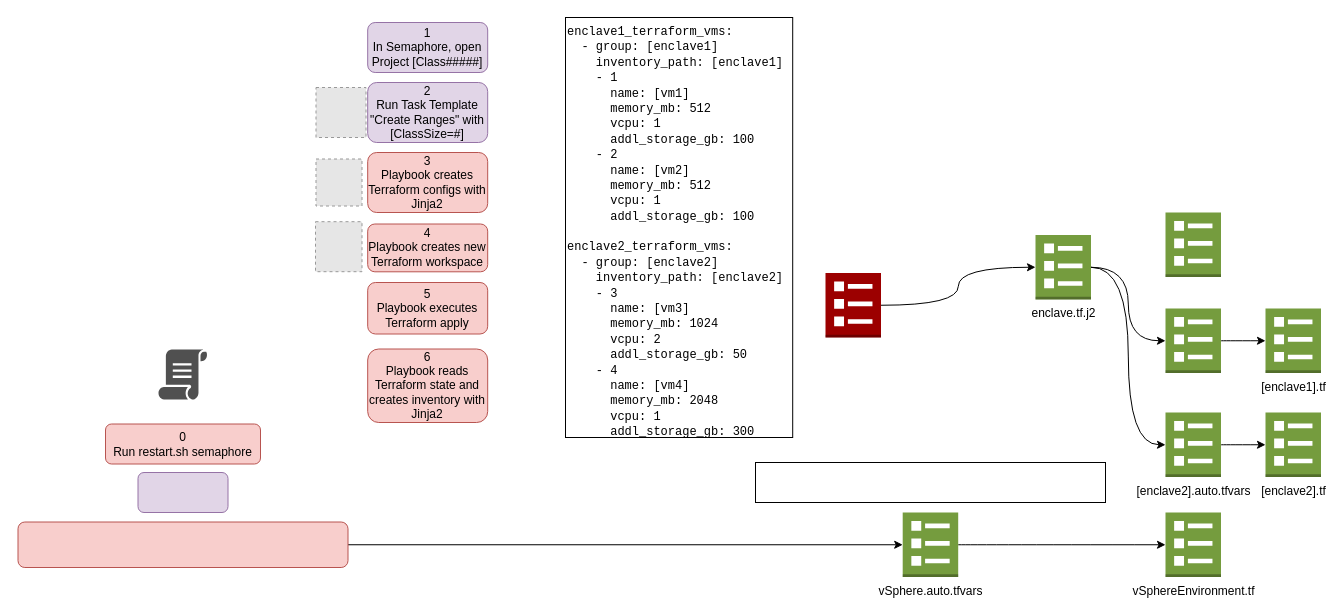
The diagram is 1343 pixels wide and 615 high, and some of its shapes have lost their labels. Grey dashed boxes stand in for pictures. The centre of each missing label's shape, as x and y in pixels:
[enclave1].auto.tfvars: (1192,340)
Enter vSphere credentials: (182,492)
Generate vater/control-services/data/Semaphore/vSphere.auto.tfvars: (182,544)
Group_vars: (852,305)
main.tf: (1192,244)
restart.sh: (182,374)
vsphere_password = "VMw@re1!" vsphere_username = "Administrator@vsphere.local": (930,482)
